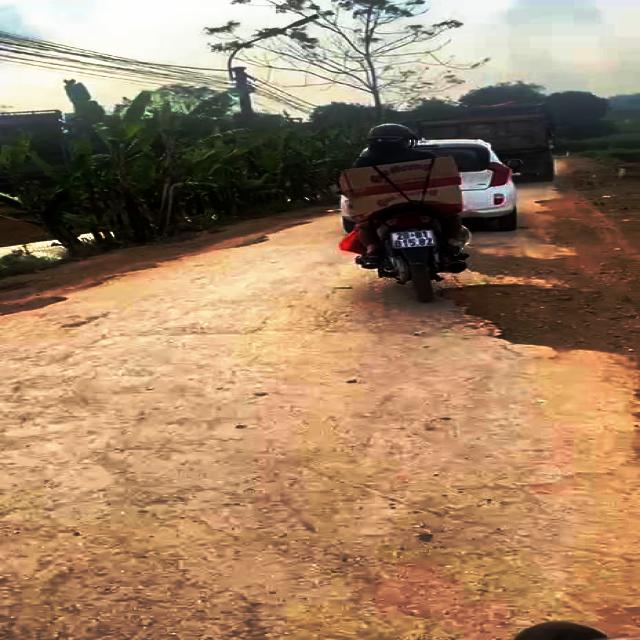pothole: (433, 279, 632, 361), (458, 250, 576, 285), (59, 262, 164, 295), (0, 294, 83, 320), (184, 235, 268, 256)
